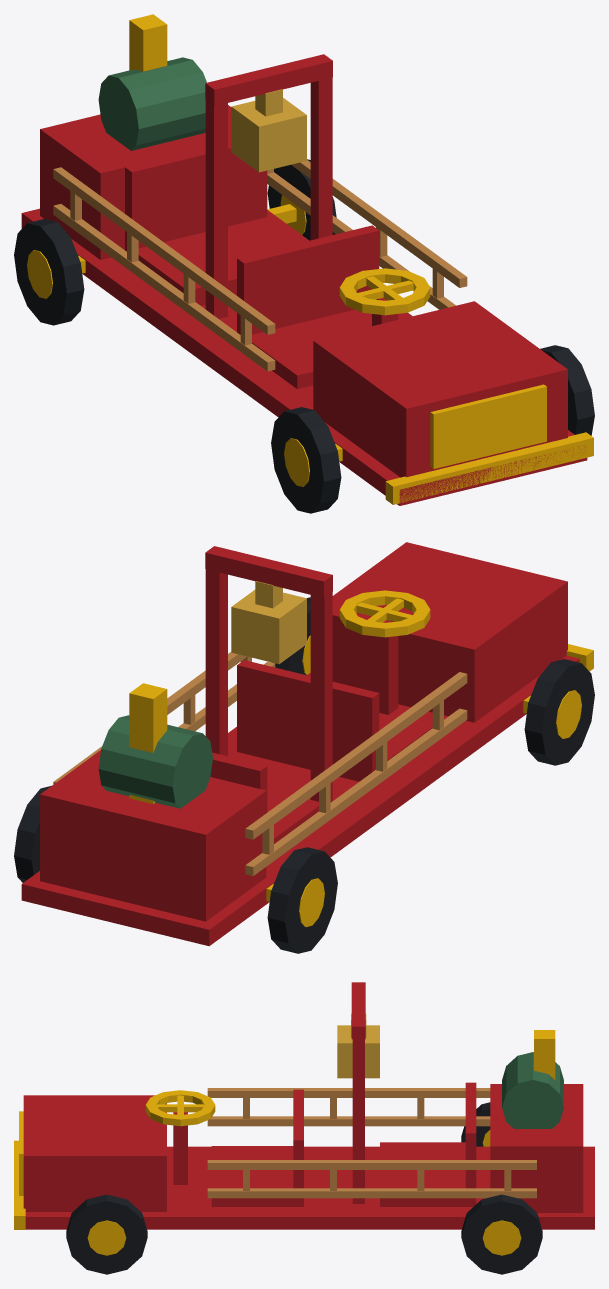
File: veh_derby_firetruck_2p.glb
The picture shows the model from 3 angles, top to bottom: view 1: azimuth 30°, elevation 25°; view 2: azimuth 150°, elevation 25°; view 3: azimuth 270°, elevation 25°; orthographic projection. The views are drawn at different scales.
Visible parts, largest first — view 1: body, brass_grille, ladder_rail_t, derby_wheel, hose_reel, bell_clapper, steer_spin, wheel_hub; view 2: body, derby_wheel, ladder_rail_t, hose_reel, bell_clapper, steer_spin, brass_grille, wheel_hub; view 3: body, ladder_rail_t, derby_wheel, hose_reel, wheel_hub, brass_grille, steer_spin, bell_clapper.
Boxes of the visible parts, box(x1,y1,x2,y2) form: body: box(21, 54, 587, 505); brass_grille: box(78, 14, 593, 504); ladder_rail_t: box(53, 160, 467, 371); derby_wheel: box(14, 159, 594, 513); hose_reel: box(98, 57, 206, 150); bell_clapper: box(231, 89, 306, 172); steer_spin: box(339, 268, 430, 315); wheel_hub: box(27, 195, 309, 486); body: box(21, 542, 579, 946); derby_wheel: box(14, 597, 594, 953); ladder_rail_t: box(53, 652, 467, 875); hose_reel: box(98, 715, 212, 808); bell_clapper: box(231, 581, 306, 664); steer_spin: box(339, 590, 430, 637); brass_grille: box(129, 644, 593, 901); wheel_hub: box(299, 635, 581, 926); body: box(23, 982, 594, 1229); ladder_rail_t: box(207, 1088, 536, 1198); derby_wheel: box(66, 1102, 542, 1274); hose_reel: box(502, 1052, 563, 1128); wheel_hub: box(87, 1130, 521, 1255); brass_grille: box(14, 1030, 555, 1229); steer_spin: box(145, 1090, 215, 1126); bell_clapper: box(337, 1013, 379, 1078).
Size of the model in its own units: 1.25 by 1.25 by 3.
